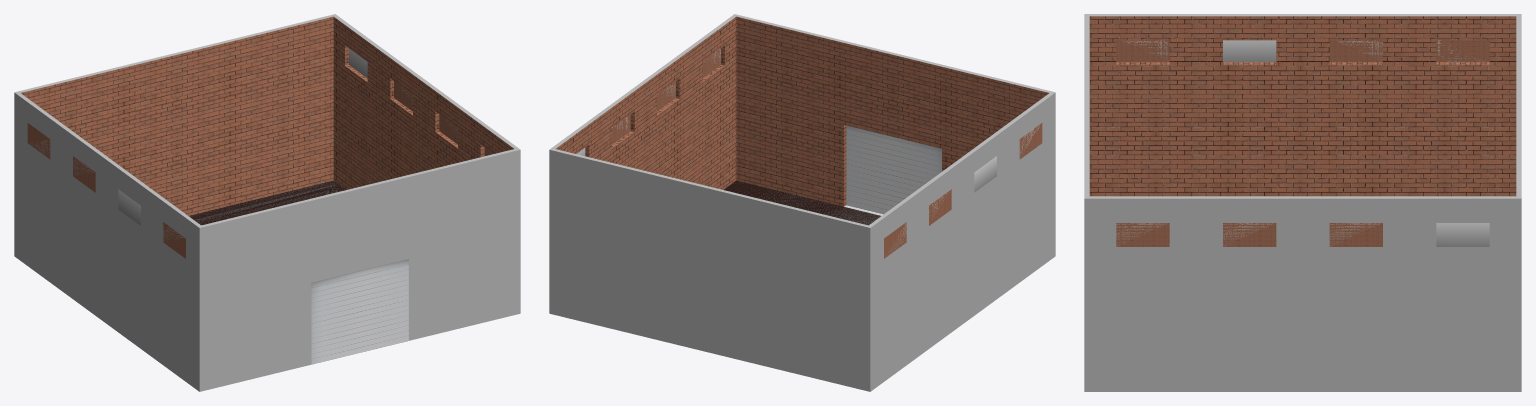
File: GarageInterier.FBX
3 renders of one model, left to right at view 1: azimuth 30°, elevation 25°; view 2: azimuth 150°, elevation 25°; view 3: azimuth 270°, elevation 25°, orthographic. The views are drawn at different scales.
Parts seen in each view (by area): view 1: Box001, Line012, Line001, Line008, Line010, Line011, Line009; view 2: Box001, Line012, Line001, Line011, Line008, Line009, Line010; view 3: Box001, Line004, Line005, Line006, Line007, Line008, Line011, Line009, Line010.
Part boxes in pixels (left/top/right/bottom): Box001: left=14, top=14, right=520, bottom=391; Line012: left=311, top=259, right=408, bottom=364; Line001: left=189, top=180, right=345, bottom=225; Line008: left=27, top=123, right=50, bottom=159; Line010: left=118, top=189, right=140, bottom=225; Line011: left=163, top=222, right=185, bottom=258; Line009: left=73, top=156, right=95, bottom=192; Box001: left=549, top=14, right=1055, bottom=391; Line012: left=846, top=125, right=941, bottom=214; Line001: left=724, top=180, right=880, bottom=225; Line011: left=1019, top=123, right=1042, bottom=159; Line008: left=884, top=222, right=906, bottom=258; Line009: left=929, top=189, right=951, bottom=225; Line010: left=974, top=156, right=996, bottom=192; Box001: left=1084, top=14, right=1521, bottom=391; Line004: left=1116, top=223, right=1169, bottom=246; Line005: left=1223, top=223, right=1276, bottom=246; Line006: left=1329, top=223, right=1382, bottom=246; Line007: left=1436, top=223, right=1489, bottom=246; Line008: left=1436, top=40, right=1489, bottom=62; Line011: left=1116, top=40, right=1169, bottom=62; Line009: left=1329, top=40, right=1382, bottom=62; Line010: left=1223, top=40, right=1276, bottom=62.
Size of what is drawn, in the model's own units: 8.2 by 4 by 8.2.
